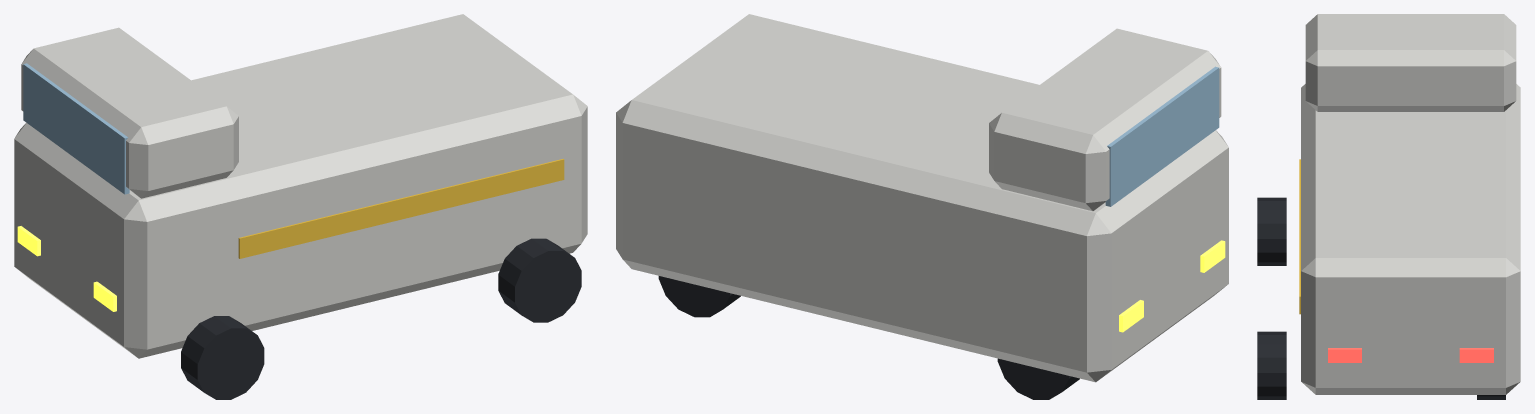
File: van.glb
3 renders of one model, left to right at view 1: azimuth 30°, elevation 25°; view 2: azimuth 150°, elevation 25°; view 3: azimuth 270°, elevation 25°, orthographic. The views are drawn at different scales.
Parts seen in each view (by area): view 1: van_mesh; view 2: van_mesh; view 3: van_mesh.
Boxes of the visible parts, box(x1,y1,x2,y2) form: van_mesh: box(14, 14, 587, 399); van_mesh: box(616, 14, 1228, 399); van_mesh: box(1257, 14, 1520, 399).
Bounding box in the file's own units: 1.93 × 1.02 × 1.08.
